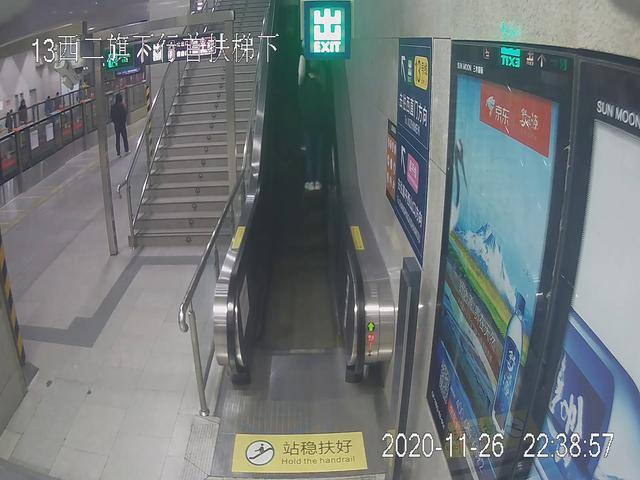person: (297, 60, 336, 194), (111, 90, 130, 155)
